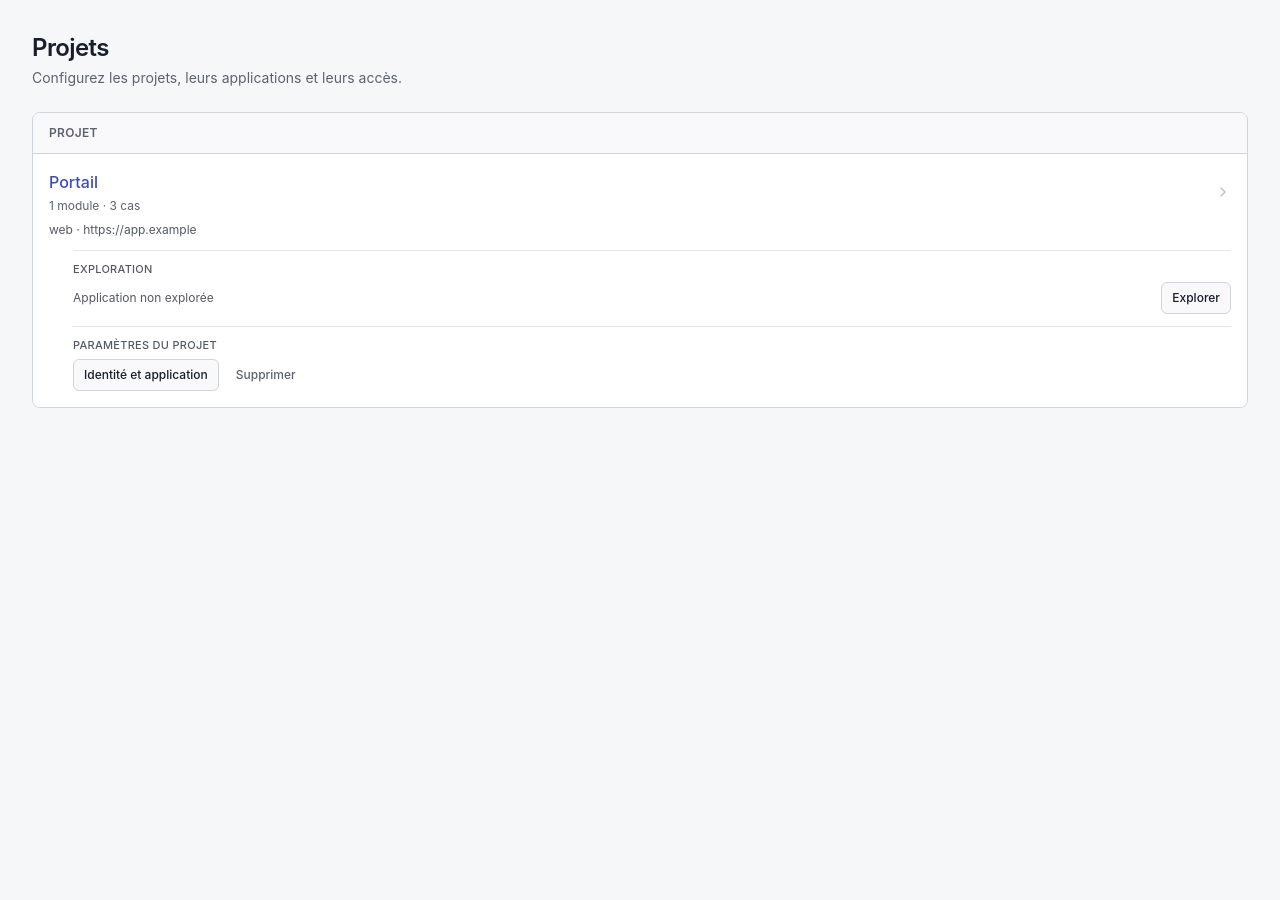
Test: ProjectsList — comptes de test du projet › un dev gère les comptes
The image size is (1280, 900).
Click the button "Identité et application" at (146,375), box [73,359,219,391]
(page scrolled)
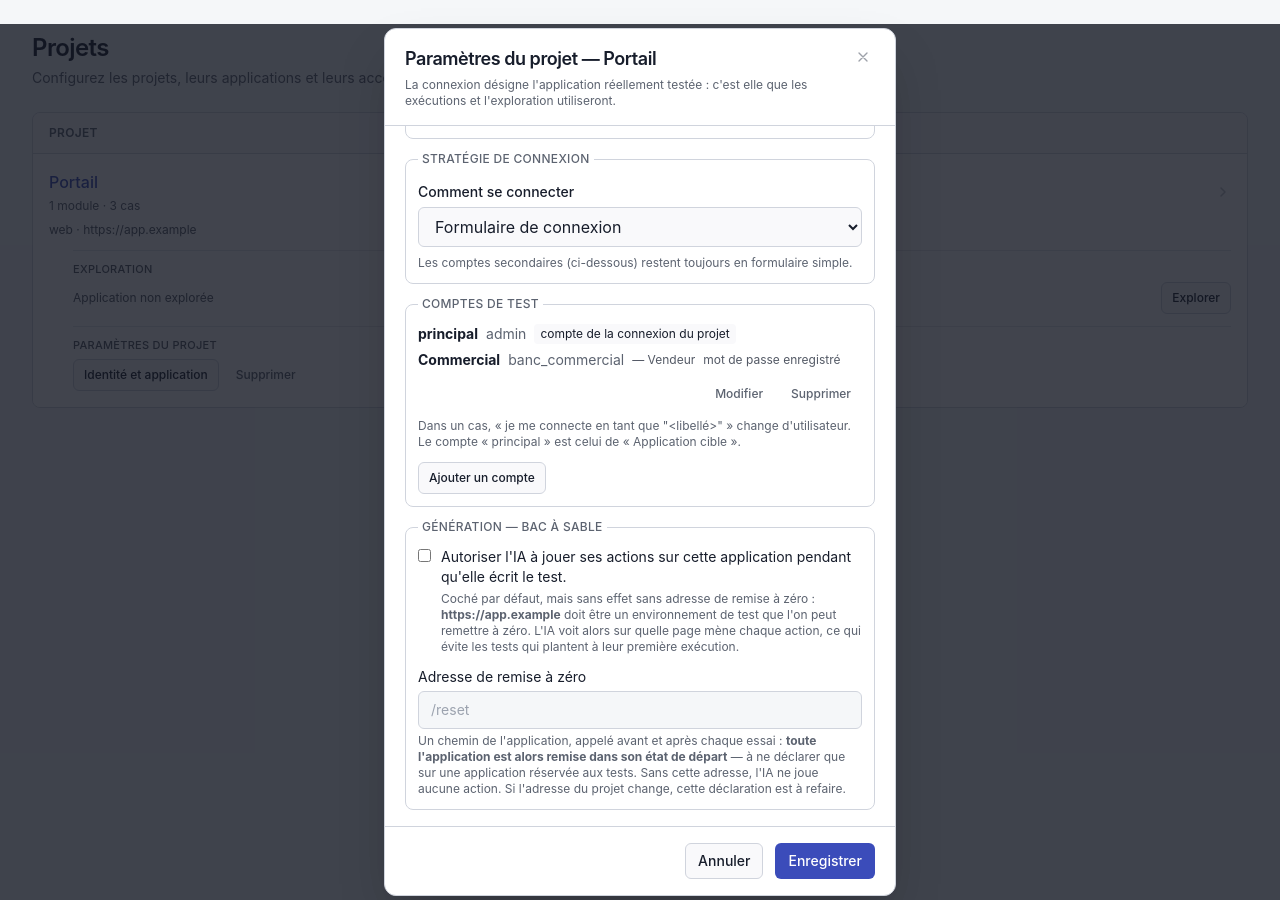
Expected: the button with test id "compte-ajouter" is shown, [418,462,546,494]
